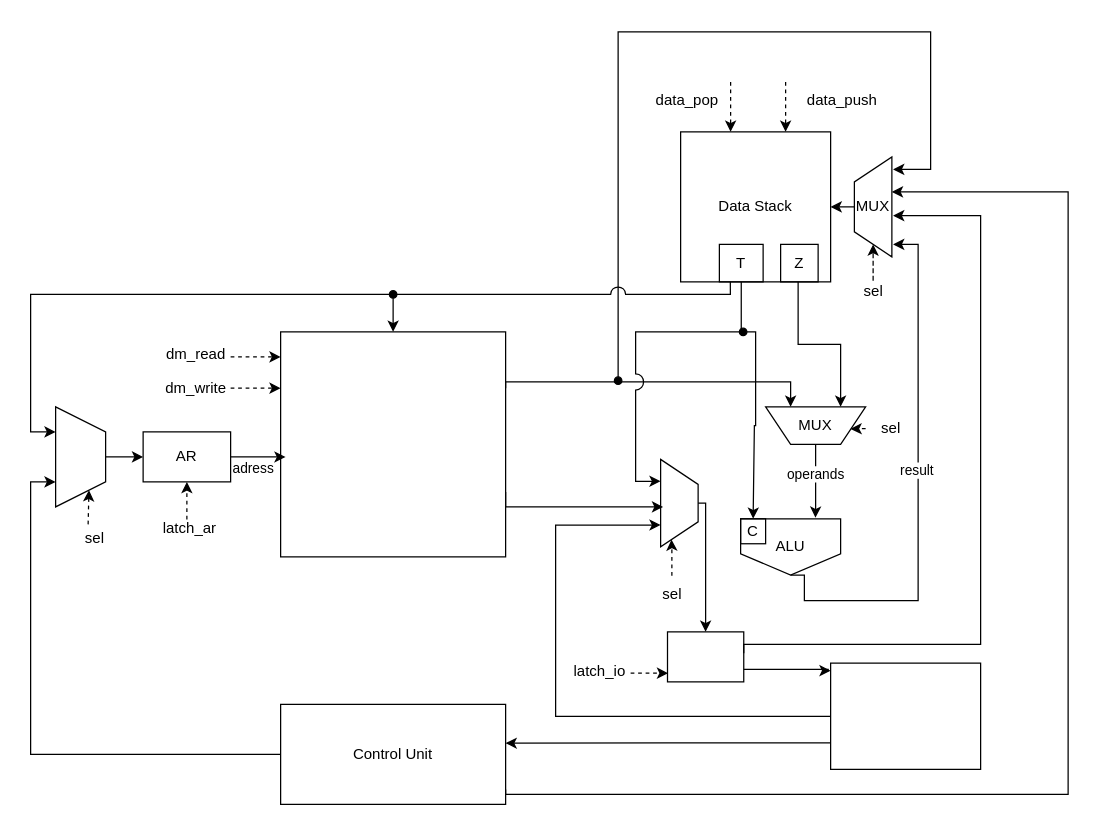
The diagram is 1100 pixels wide and 826 high, and some of its shapes have lost their labels. Here are the shapes that lost their labels. From the top down, the centre of each, then its label:
[80,456]: jrs MUX
[392,444]: Data Memory
[678,502]: IO MUX
[705,656]: IO
[905,715]: IO Devices
